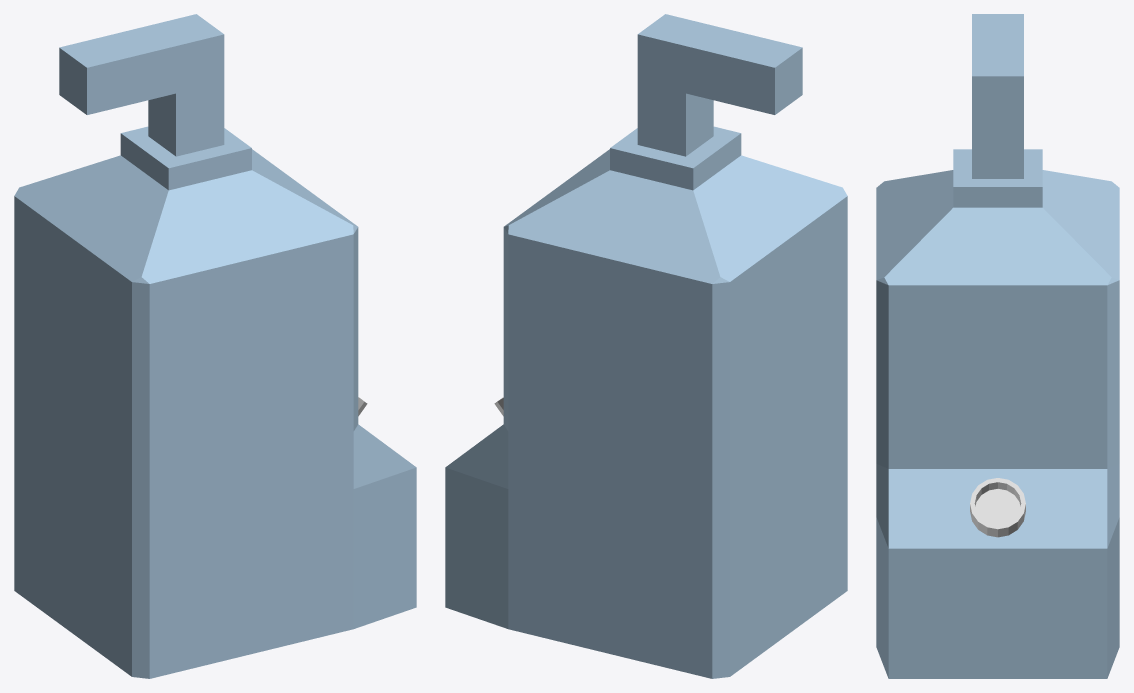
File: Fuel_Machine.fbx
3 renders of one model, left to right at view 1: azimuth 30°, elevation 25°; view 2: azimuth 150°, elevation 25°; view 3: azimuth 270°, elevation 25°, orthographic. The views are drawn at different scales.
Parts seen in each view (by area): view 1: Plane; view 2: Plane; view 3: Plane, Cylinder.
Part boxes in pixels (<box>): Plane: <box>14,14,416,678</box>; Plane: <box>445,14,847,678</box>; Plane: <box>876,14,1119,678</box>; Cylinder: <box>970,478,1025,537</box>.
Size of the model in its own units: 384 by 730 by 300.
